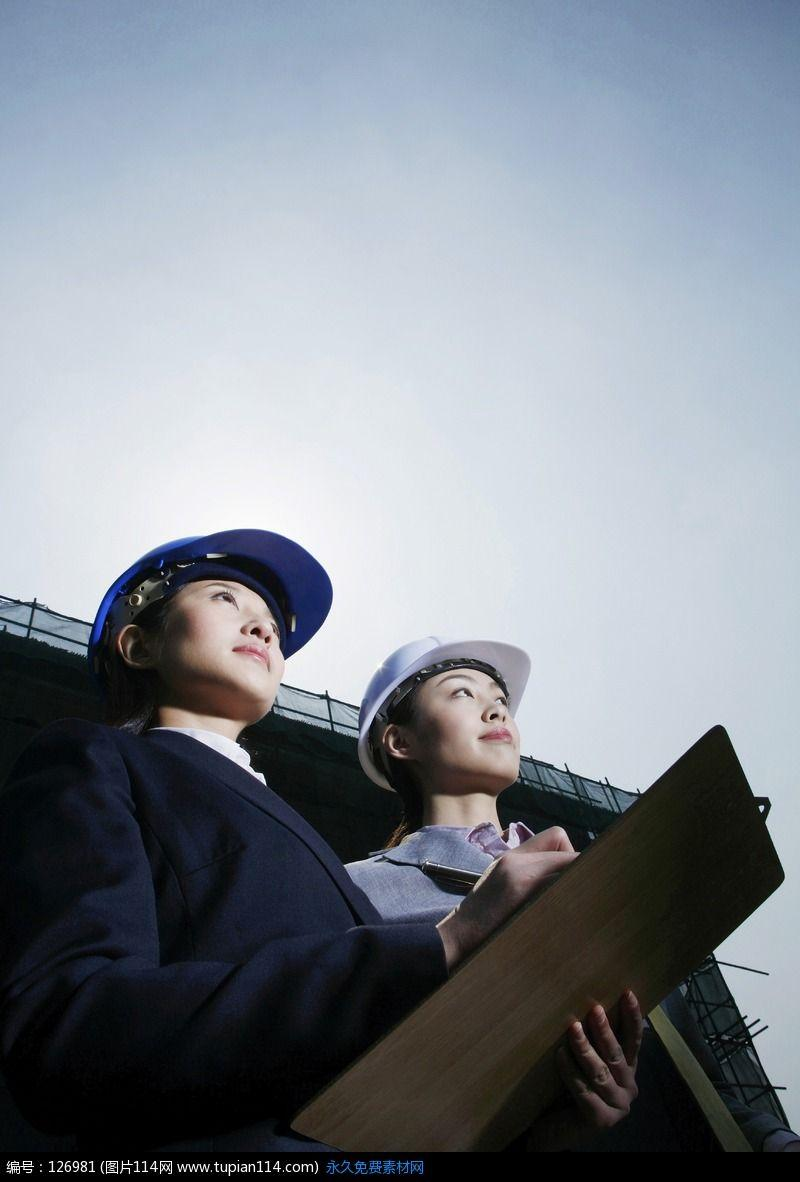helmet: (57, 532, 339, 659), (347, 635, 536, 758)
